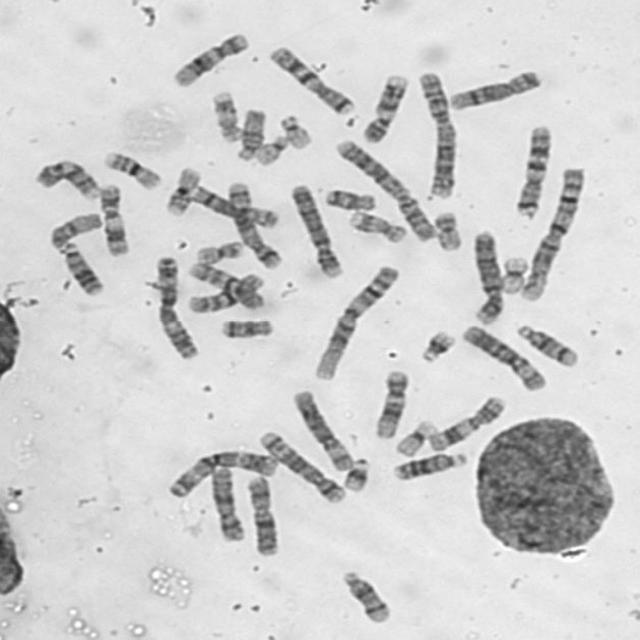A1: (315, 265, 400, 379), (520, 167, 586, 302)
A2: (334, 137, 437, 242), (417, 72, 460, 200)
A3: (168, 450, 279, 499), (155, 255, 199, 359)
B4: (290, 182, 344, 278), (471, 230, 505, 324)
B5: (258, 429, 345, 504), (226, 182, 284, 270)
C10: (186, 262, 265, 311), (187, 273, 265, 314)
C11: (429, 394, 506, 452), (100, 184, 129, 256)
C12: (174, 32, 249, 87), (375, 369, 410, 439)
C6: (460, 324, 547, 390), (292, 390, 356, 472)
C7: (269, 46, 357, 117), (516, 124, 554, 216)
C8: (190, 185, 279, 230), (448, 71, 541, 111)
C9: (362, 74, 409, 143), (36, 159, 100, 202)
D13: (62, 241, 105, 296), (391, 452, 469, 481)
D14: (515, 323, 578, 367), (340, 570, 392, 623)
D15: (48, 211, 104, 254), (236, 109, 267, 162)
E16: (102, 150, 162, 191), (166, 168, 202, 216)
E17: (348, 210, 408, 243), (210, 90, 240, 143)
E18: (218, 318, 274, 340), (323, 188, 377, 210)
F19: (394, 420, 438, 458), (502, 256, 529, 296)
F20: (196, 240, 244, 266), (434, 210, 462, 252)
G21: (421, 329, 456, 364), (343, 456, 371, 492)
G22: (279, 114, 313, 150), (254, 134, 289, 166)
X: (209, 467, 246, 542), (247, 474, 279, 556)
